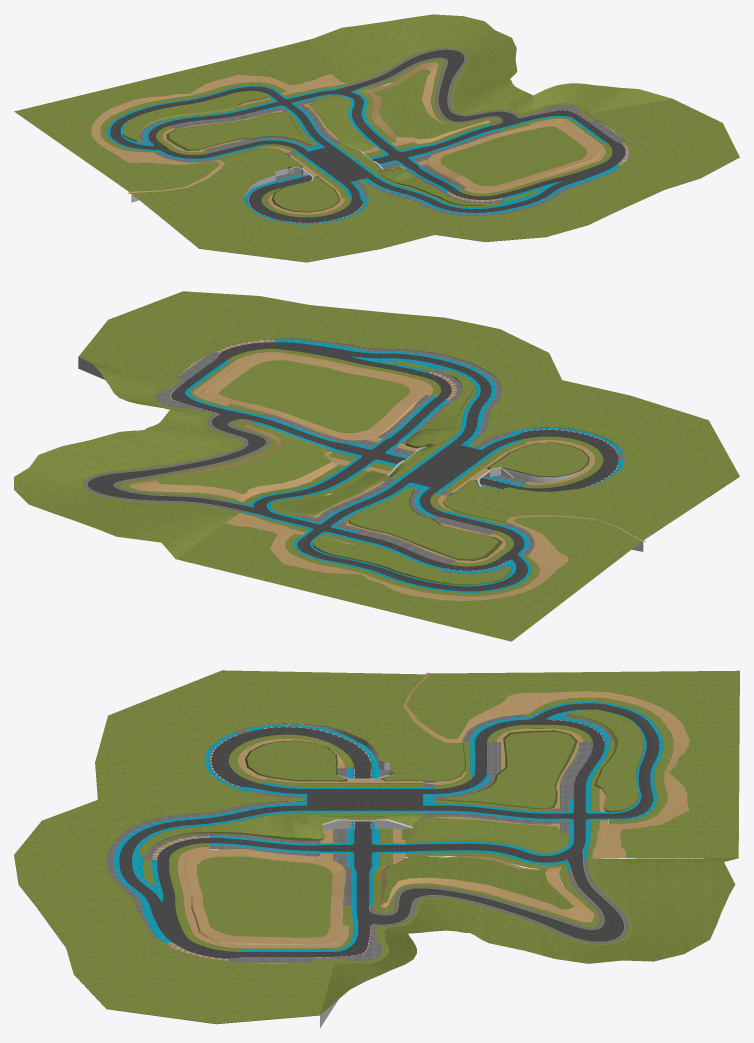
File: race_track1.fbx
3 renders of one model, top to bottom at view 1: azimuth 30°, elevation 25°; view 2: azimuth 150°, elevation 25°; view 3: azimuth 270°, elevation 25°, orthographic. The views are drawn at different scales.
Visible parts, largest first — view 1: grass, asphalt, grass_road1, asphalt2, asphalt3, sand; view 2: grass, asphalt, grass_road1, asphalt2, asphalt3, sand, bridge; view 3: grass, asphalt, grass_road1, asphalt2, asphalt3, sand, bridge.
Part boxes in pixels (x1,y1,x2,y2): grass: [14, 14, 739, 262]; asphalt: [110, 49, 625, 222]; grass_road1: [100, 46, 612, 217]; asphalt2: [107, 85, 620, 224]; asphalt3: [139, 48, 629, 222]; sand: [162, 92, 622, 214]; grass: [14, 291, 739, 641]; asphalt: [88, 342, 618, 591]; grass_road1: [79, 348, 603, 596]; asphalt2: [170, 339, 624, 592]; asphalt3: [83, 338, 624, 574]; sand: [178, 352, 595, 563]; bridge: [387, 444, 513, 486]; grass: [14, 670, 739, 1027]; asphalt: [119, 703, 659, 958]; grass_road1: [138, 697, 673, 951]; asphalt2: [114, 701, 663, 957]; asphalt3: [106, 714, 629, 963]; sand: [177, 728, 608, 963]; bridge: [321, 775, 422, 829].
Size of the model in its own units: 393 by 12.12 by 341.
